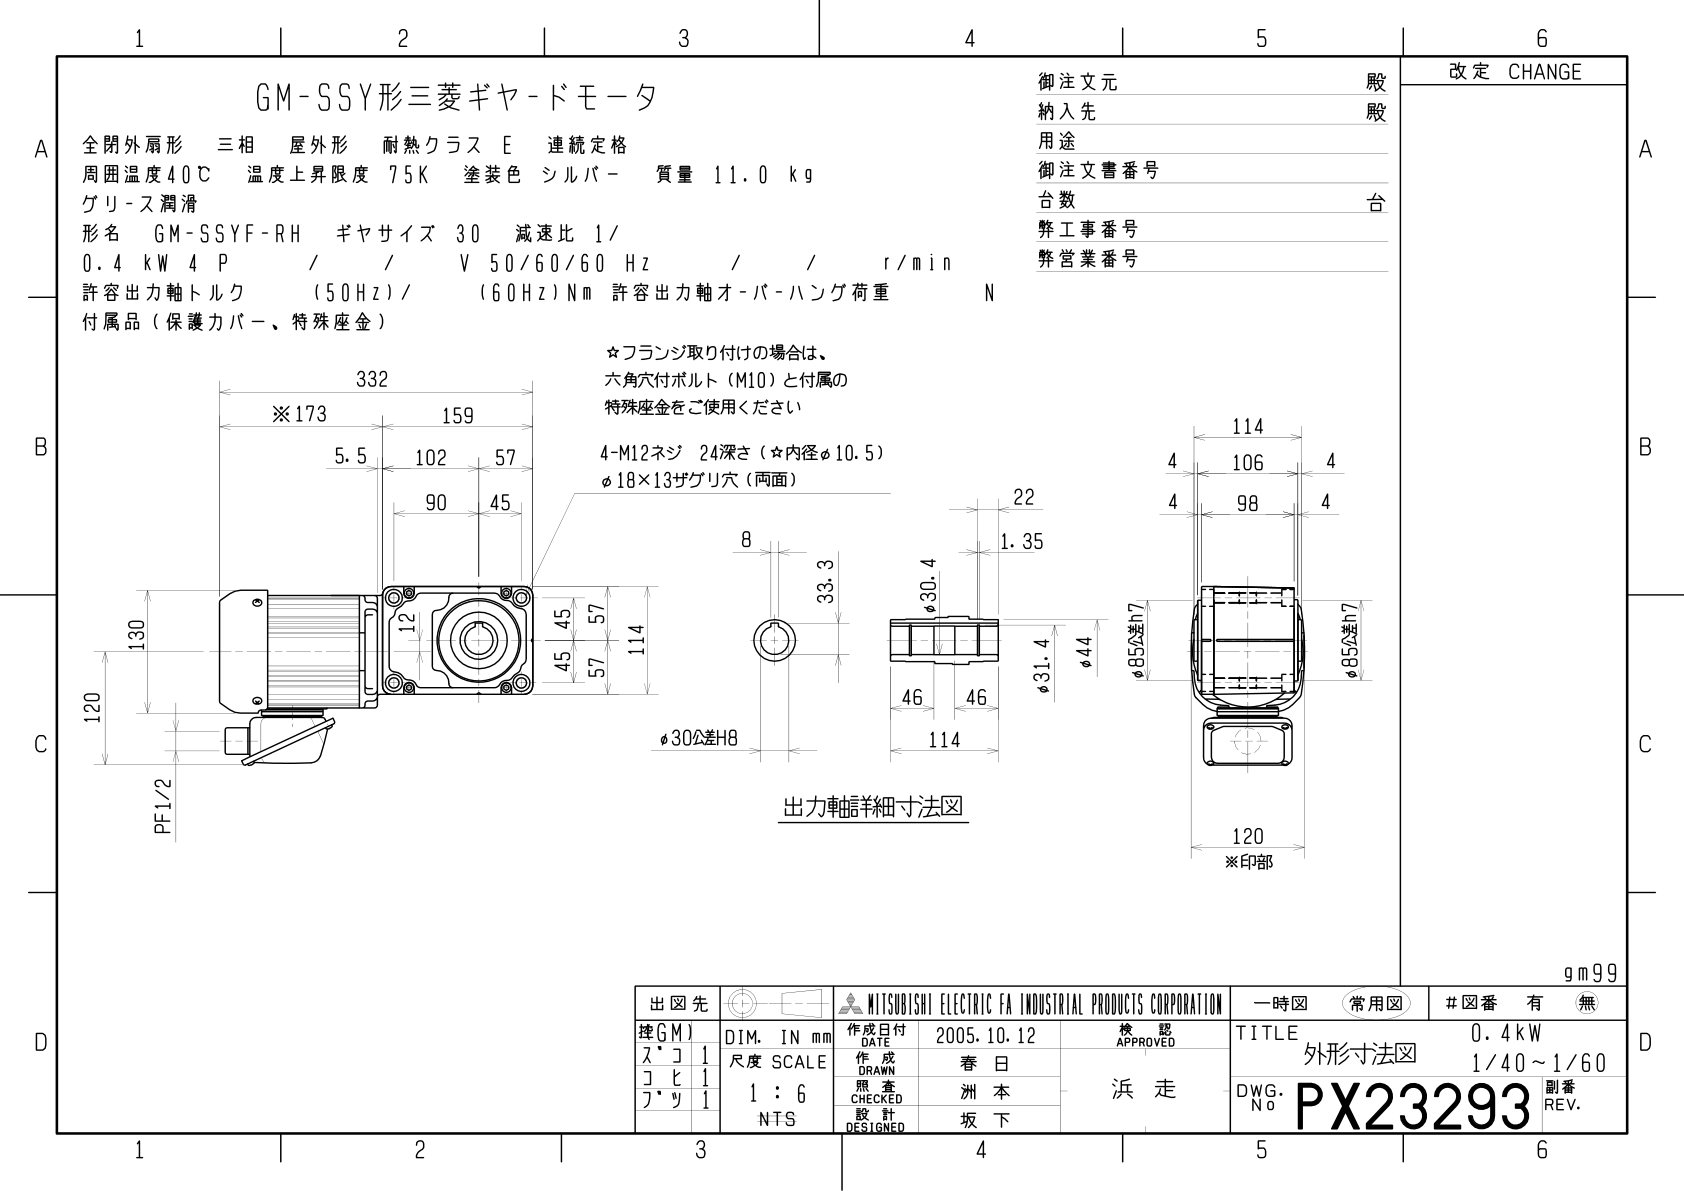GM_SSY_インバータ屋外_三相: (77, 339, 1373, 920)
